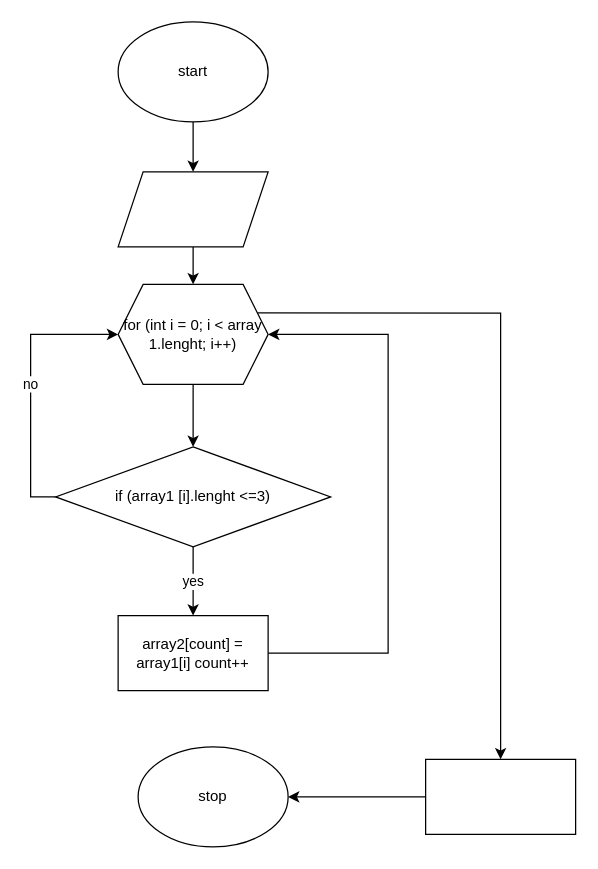
The diagram is 598 pixels wide and 869 high, and some of its shapes have lost their labels. Each missing label, with the centre of its shape:
"print array2" belongs at (x=500, y=796).
"Two array from-to int count = 0" belongs at (x=192, y=209).
